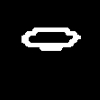chain: (22, 28, 80, 50)
